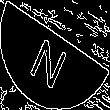N_NE: (32, 23, 78, 87)
